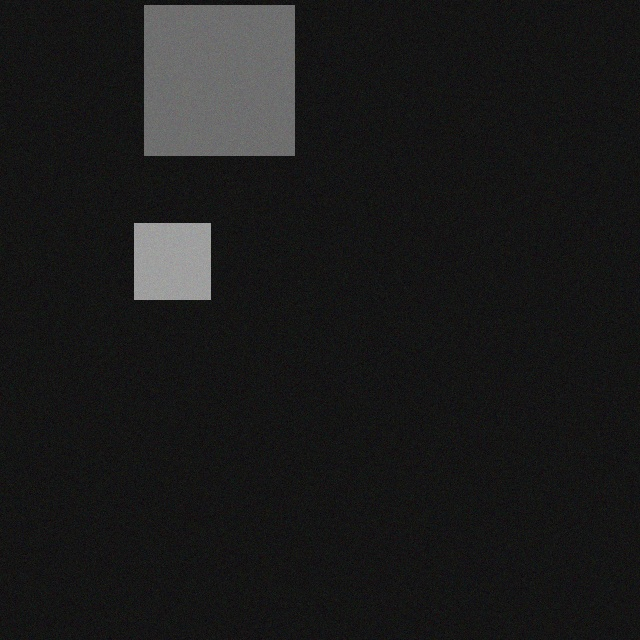square: (155, 14, 305, 164), (145, 232, 221, 308)
